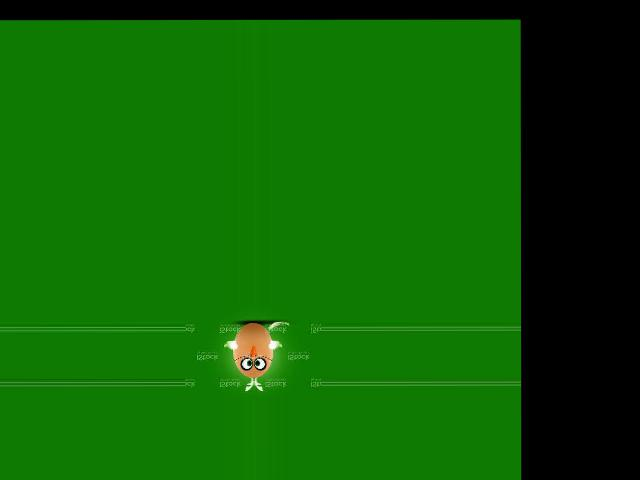egg: (234, 321, 274, 377)
